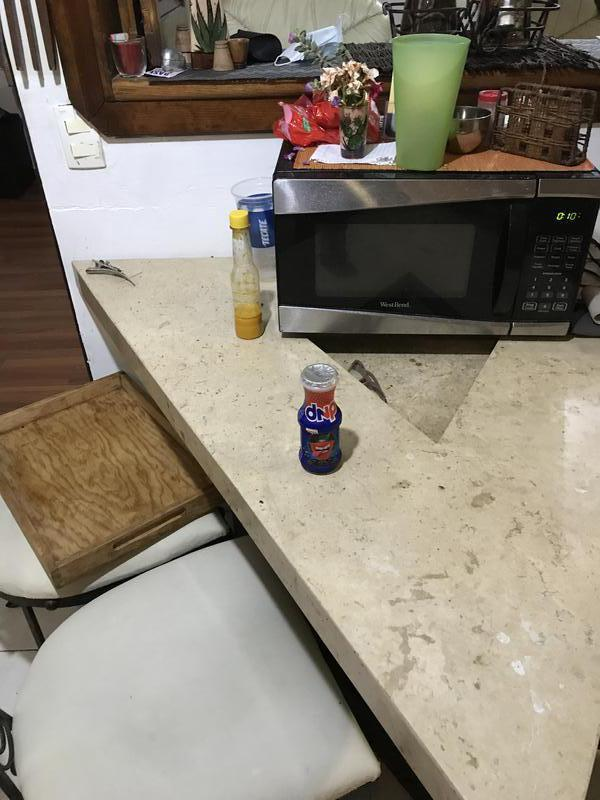danup: (296, 362, 345, 475)
